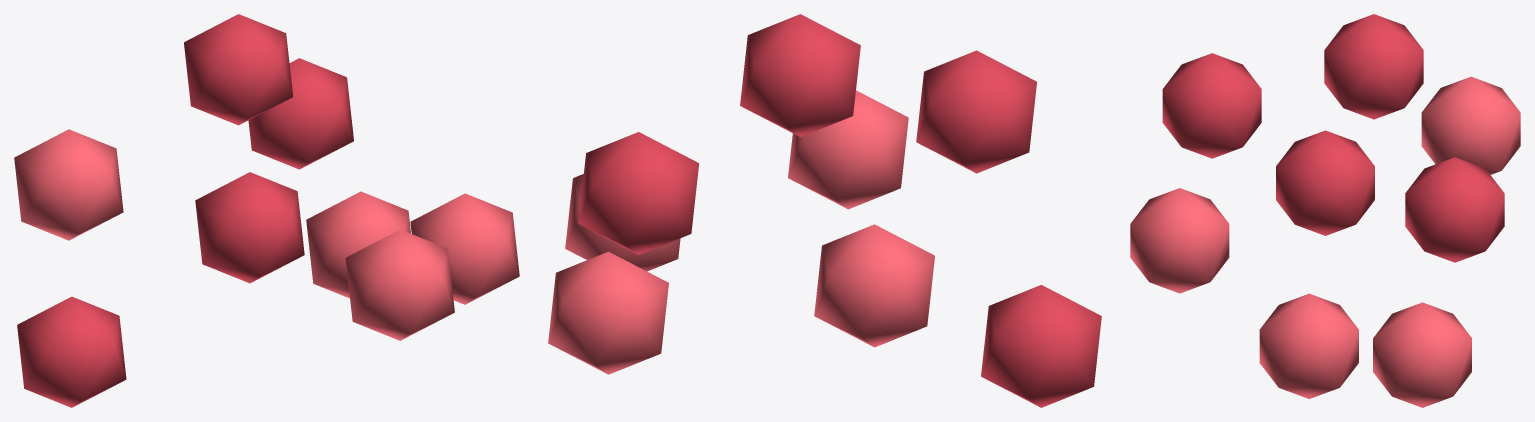
File: berries.glb
3 renders of one model, left to right at view 1: azimuth 30°, elevation 25°; view 2: azimuth 150°, elevation 25°; view 3: azimuth 270°, elevation 25°, orthographic. The views are drawn at different scales.
Parts seen in each view (by area): view 1: berry4, berry1, berry2, berry5, berry6, berry0, berry3, berry7; view 2: berry6, berry1, berry4, berry2, berry7, berry0, berry5, berry3; view 3: berry6, berry3, berry0, berry2, berry5, berry4, berry7, berry1.
Part boxes in pixels (x1,y1,x2,y2): berry4: (17,296,126,407); berry1: (14,129,123,240); berry2: (184,14,293,125); berry5: (345,229,454,340); berry6: (195,172,304,283); berry0: (248,58,353,169); berry3: (410,193,519,304); berry7: (306,191,410,298); berry6: (916,50,1036,173); berry1: (814,224,934,347); berry4: (981,285,1101,407); berry2: (740,14,860,136); berry7: (548,251,668,374); berry0: (578,132,699,254); berry5: (788,90,908,209); berry3: (565,174,680,271); berry6: (1162,53,1261,158); berry3: (1259,293,1358,398); berry0: (1405,157,1504,262); berry2: (1324,14,1423,119); berry5: (1130,188,1229,293); berry4: (1276,130,1374,235); berry7: (1373,302,1471,407); berry1: (1421,76,1520,174).
Bounding box in the file's own units: 0.6488 × 0.444 × 0.4825.
